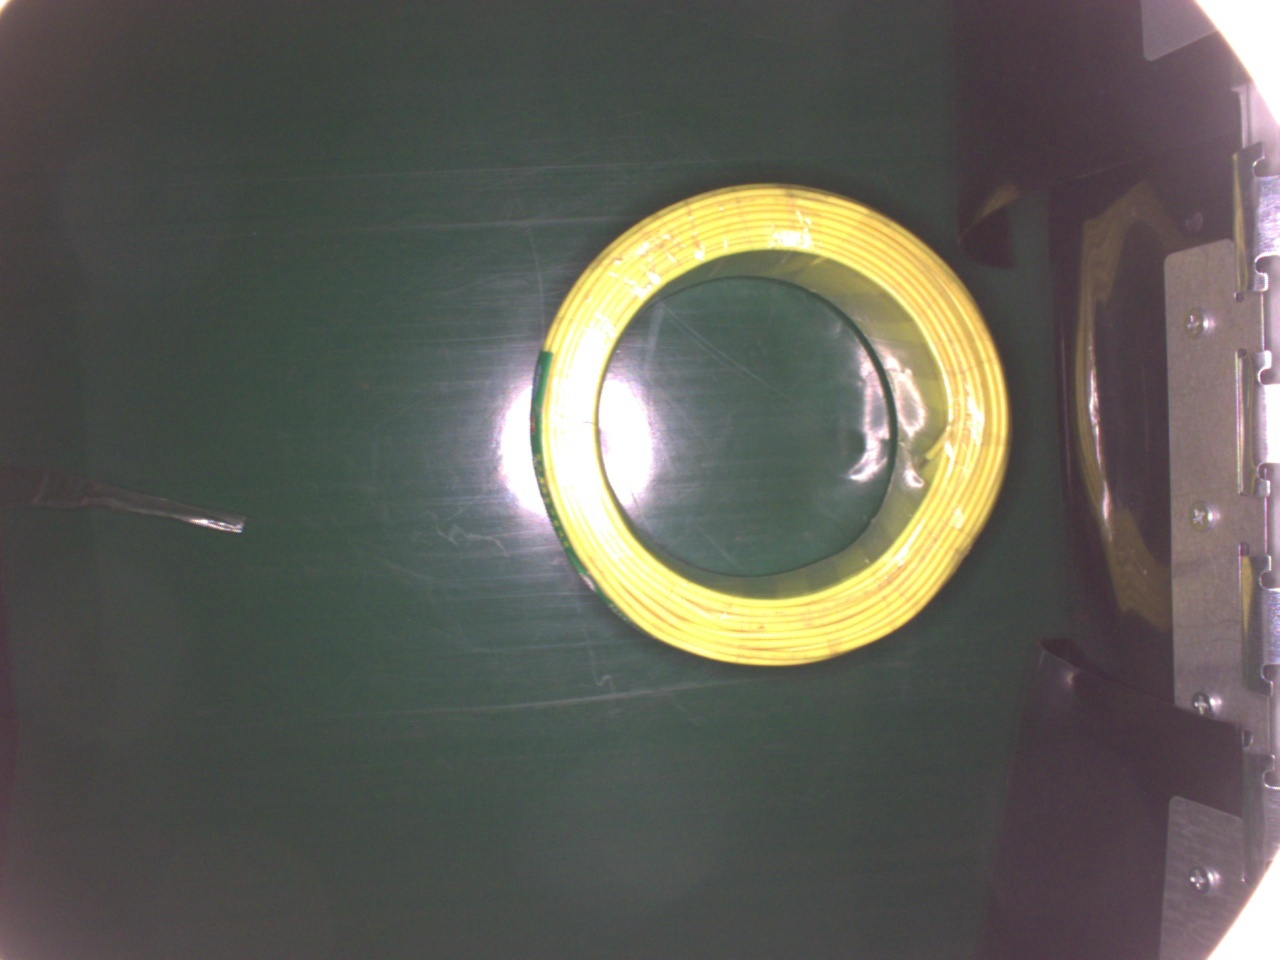yellow: (527, 179, 1014, 667)
